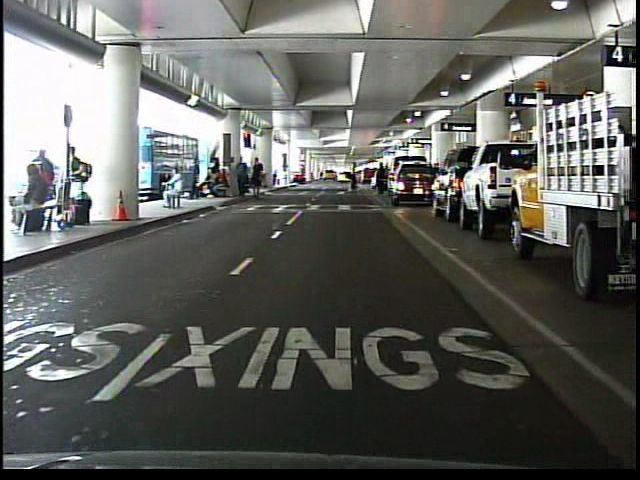person: (158, 168, 187, 213), (343, 160, 364, 195), (189, 156, 204, 203), (371, 158, 388, 199)
